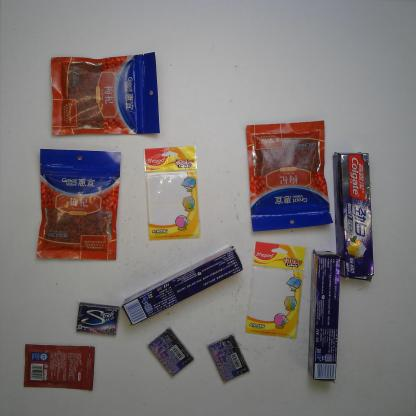Dried Fruit: (245, 117, 332, 235), (35, 146, 119, 263), (48, 53, 161, 135)
Gum: (145, 326, 195, 380), (206, 334, 252, 385), (74, 300, 122, 339)
Personal Hygiene: (117, 246, 243, 330), (333, 145, 379, 284), (310, 247, 340, 385)
Seasoner: (20, 342, 98, 392)
Stationery: (246, 241, 308, 343), (143, 147, 203, 242)
